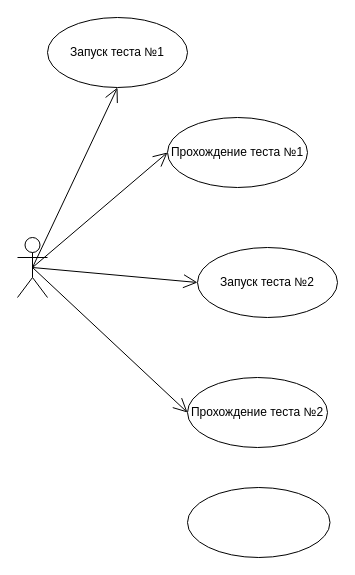
Image size: 355x575. Some labels were removed from this diagram. Here are the shapes that lost their labels. From the top down, the centre of each, then its label:
At (32,267): "Actor".
At (258,522): "проверка результатов и расчёт коэффициента".
